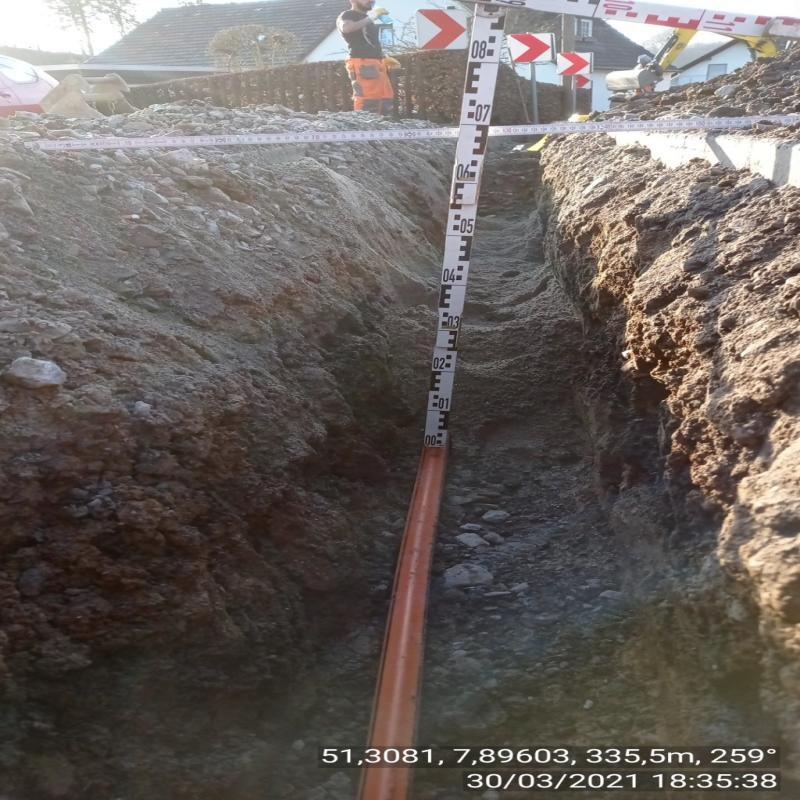Orang-Speednetrohrchen: (360, 448, 449, 799)
